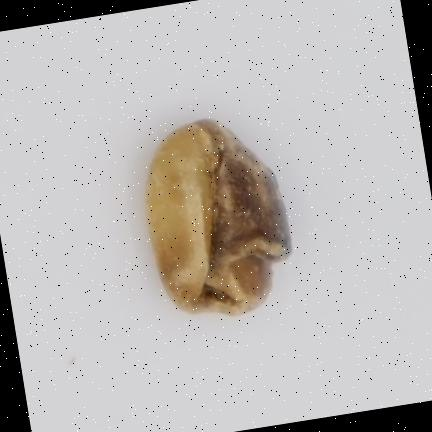partial-black: (146, 119, 290, 314)
